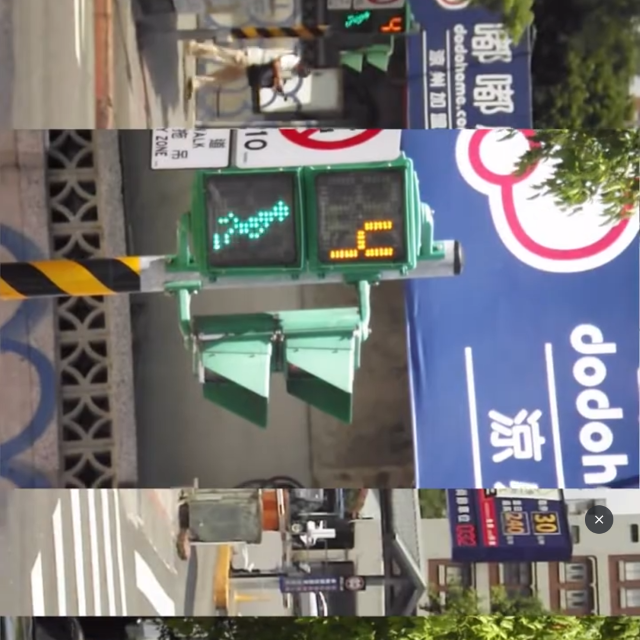green_light: (198, 171, 418, 267), (343, 9, 410, 34)
